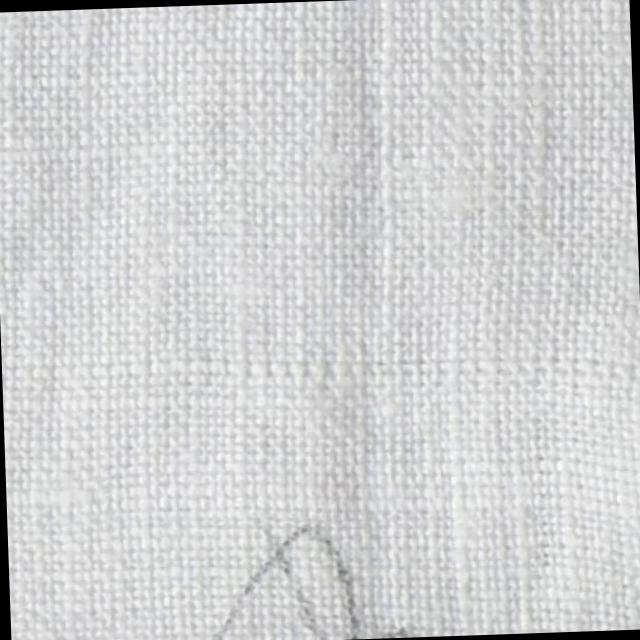Stain: (197, 507, 420, 640)
